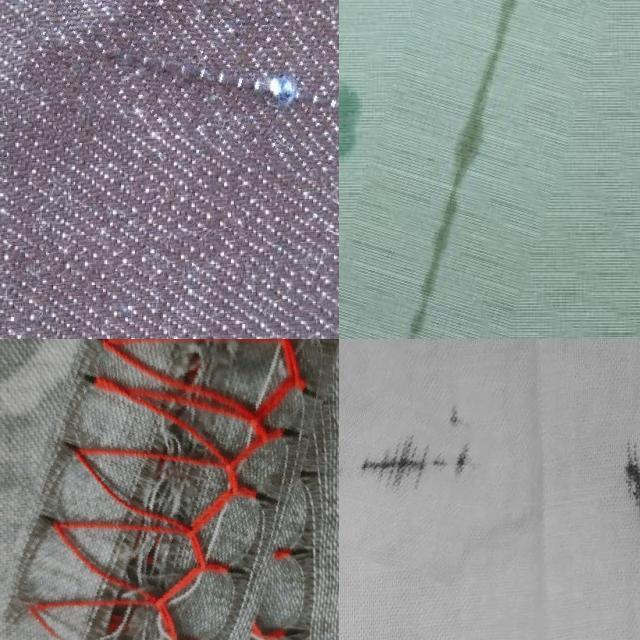Thread_other: (352, 0, 622, 339), (339, 430, 487, 496), (582, 428, 640, 574)
Thread_out: (35, 339, 339, 640)
stains: (24, 0, 339, 172)
